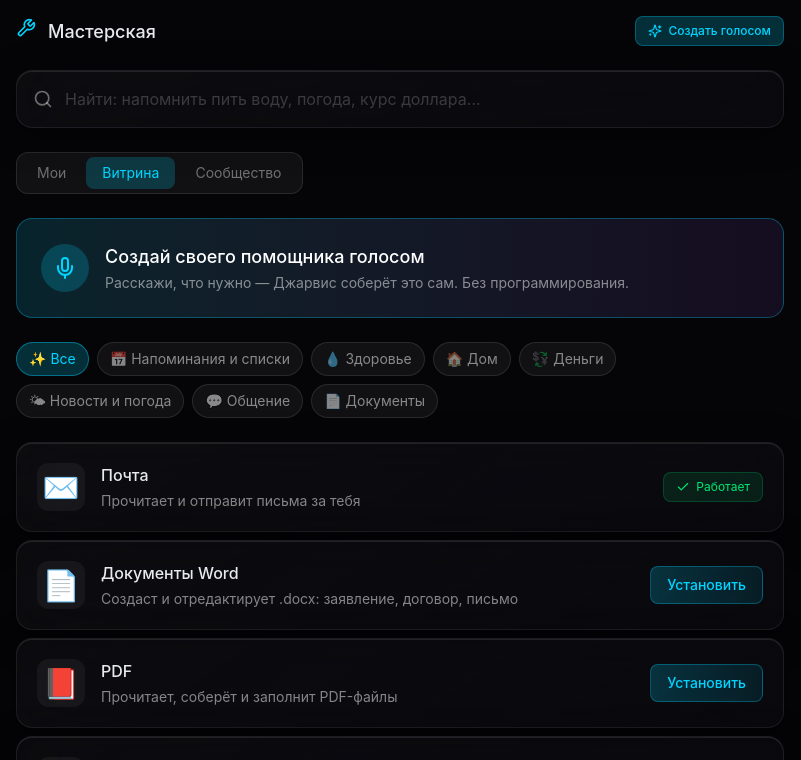
Test case: AgentStore (Мастерская) › Мои: Отозвать доступ → revokeAgent → «Доступ отозван» (M2.2)
Click the button "Мои": (52, 173) [21, 157, 82, 189]
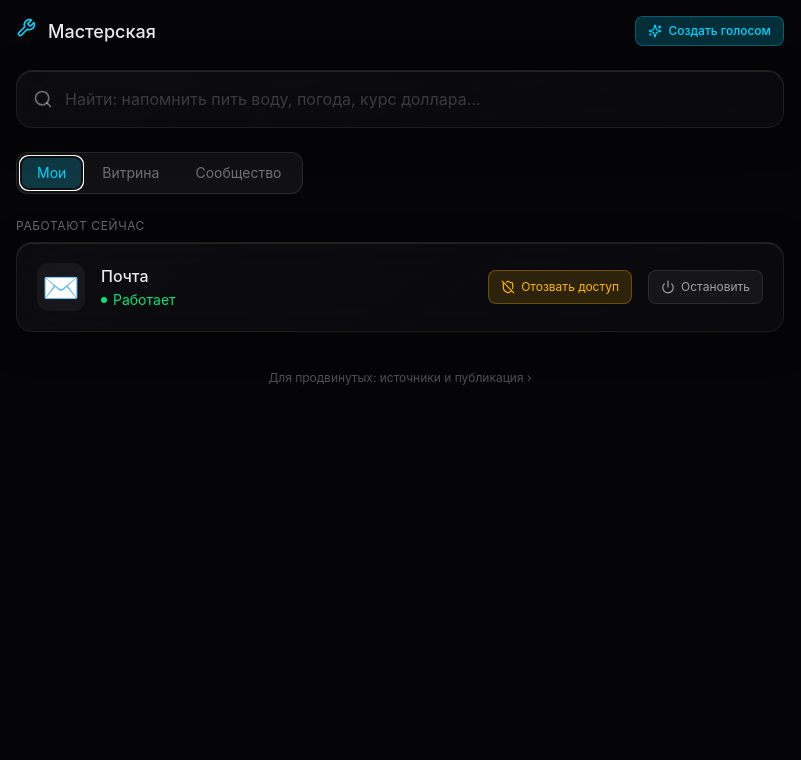
Expected: the text "Почта" shows "Работает", [113, 291, 176, 308]
Click the button "Отозвать доступ": (560, 287) [488, 270, 632, 304]
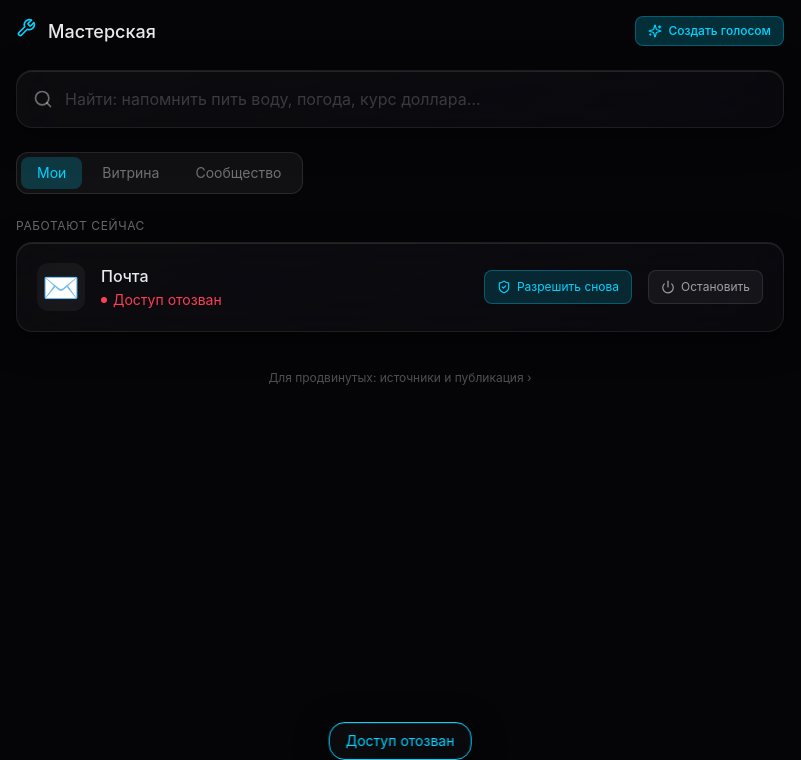
Expected: the text "Почта" shows "Доступ отозван", [113, 291, 222, 308]
